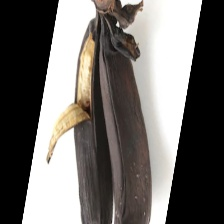banana: (26, 13, 201, 174)
